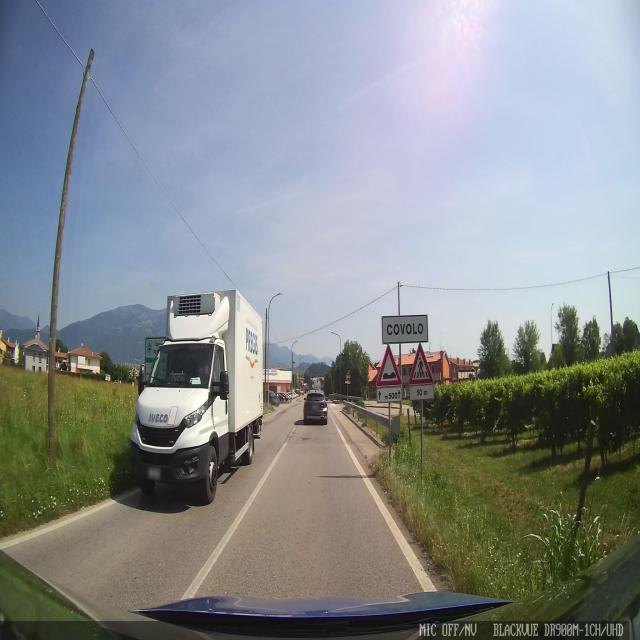car: (304, 390, 328, 425), (269, 392, 279, 406)
